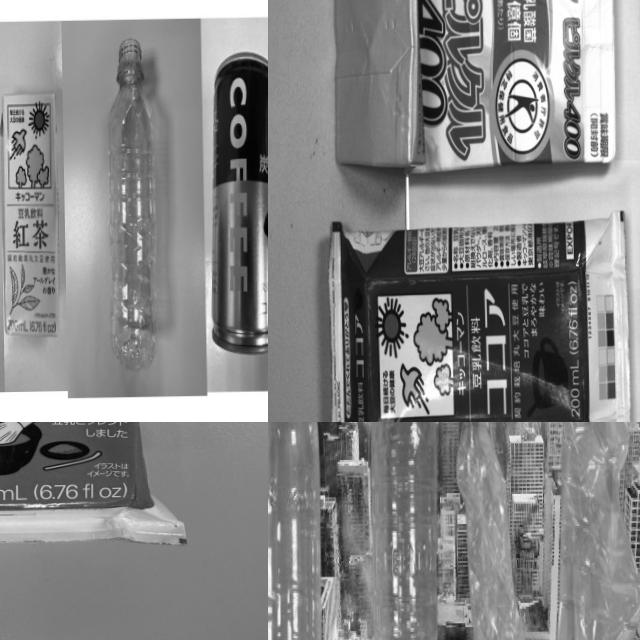Aluminium Foil: (323, 203, 640, 422), (325, 0, 622, 191), (0, 422, 194, 547), (0, 83, 66, 339)
Can: (202, 49, 268, 356)
Transparent Plastic Bottle: (102, 34, 160, 372), (550, 422, 639, 640), (454, 422, 542, 640), (363, 422, 443, 640), (268, 422, 328, 640)
